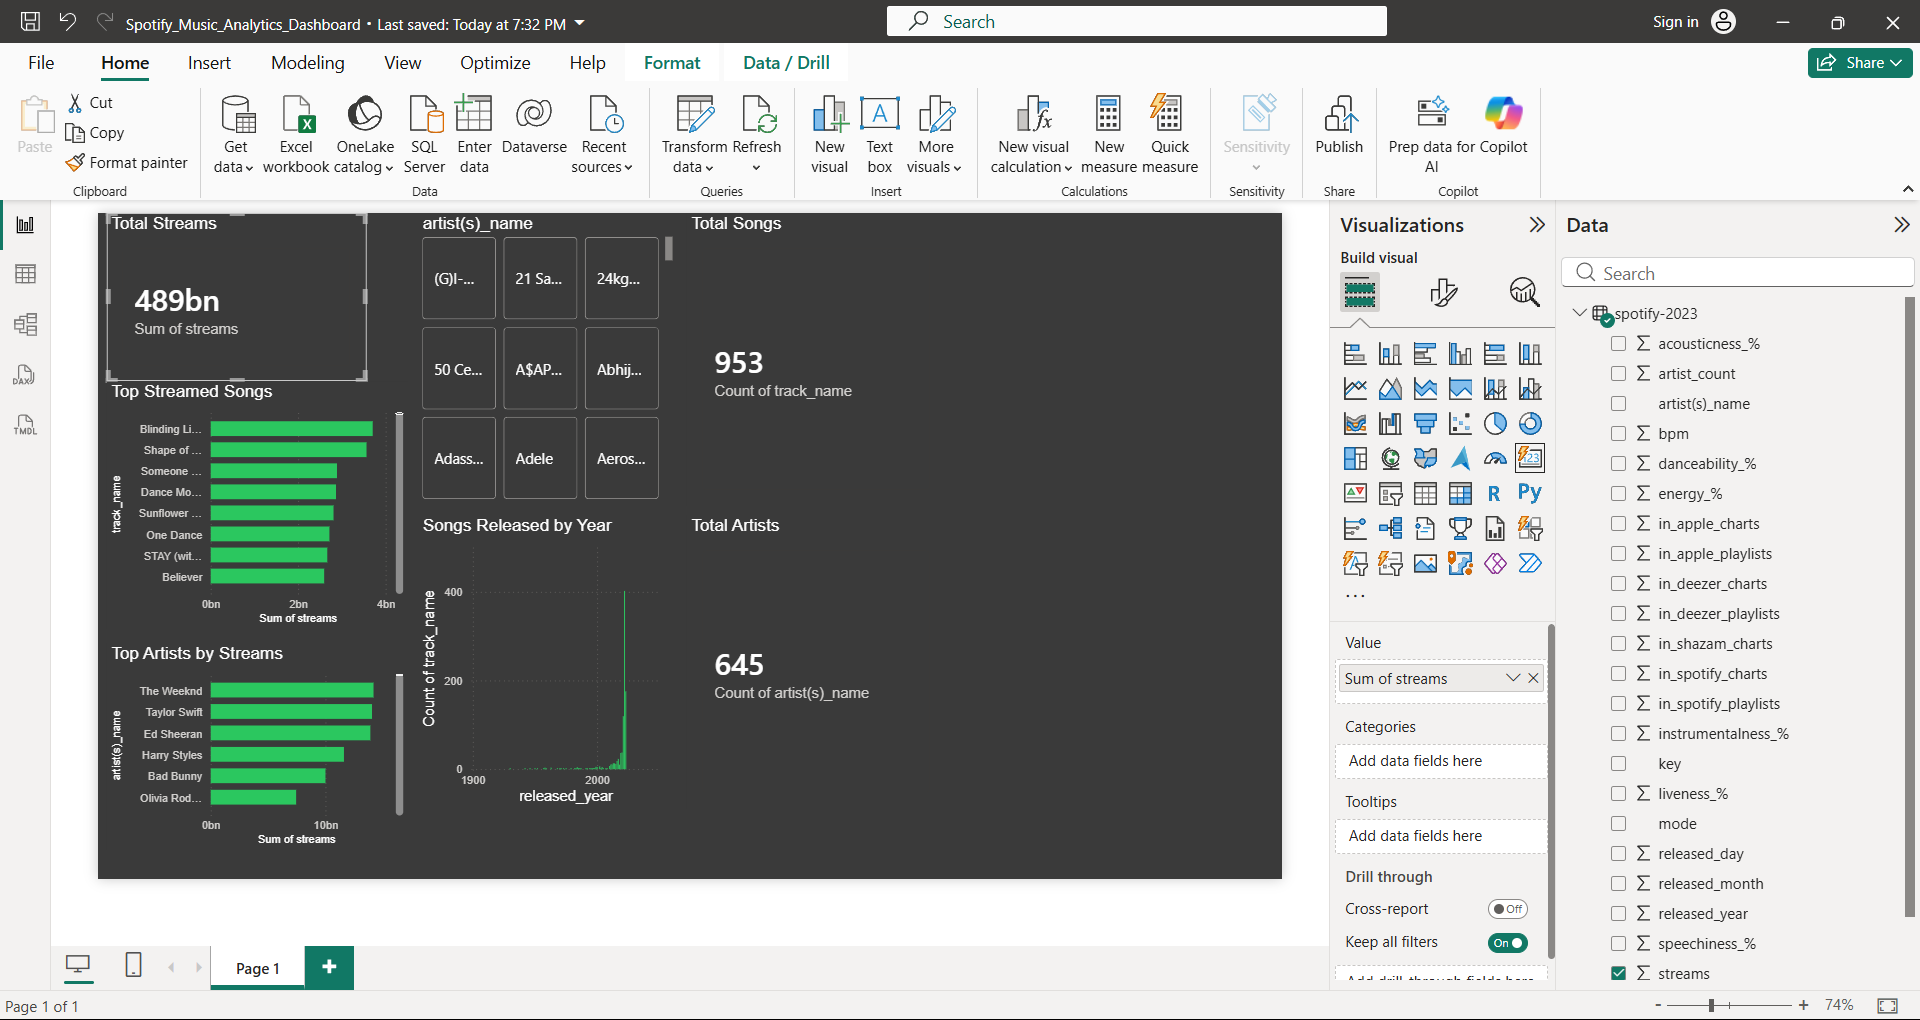

The page's visual inventory and layout, read from the dashboard file:
{"tool":"powerbi","page":{"name":"Page 1","canvas":[1280,720],"ordinal":0},"visuals":[{"type":"cardVisual","title":"Total Streams","fields":{"Data":["Sum(spotify-2023.streams)"]},"box":[10,0,280,182.9],"z":0},{"type":"clusteredBarChart","title":"Top Streamed Songs","fields":{"Category":["spotify-2023.track_name"],"Y":["Sum(spotify-2023.streams)"]},"box":[10,182.9,325.7,267.1],"z":1000},{"type":"clusteredBarChart","title":"Top Artists by Streams","fields":{"Category":["spotify-2023.artist(s)_name"],"Y":["Sum(spotify-2023.streams)"]},"box":[10,464.3,325.7,224.3],"z":2000},{"type":"clusteredColumnChart","title":"Songs Released by Year","fields":{"Category":["spotify-2023.released_year"],"Y":["CountNonNull(spotify-2023.track_name)"]},"box":[346,327,280,317],"z":3000},{"type":"cardVisual","title":"Total Songs","fields":{"Data":["CountNonNull(spotify-2023.track_name)"]},"box":[636,0,280,317],"z":4000},{"type":"cardVisual","title":"Total Artists","fields":{"Data":["Count(spotify-2023.artist(s)_name)"]},"box":[636,327,280,317],"z":5000},{"type":"advancedSlicerVisual","fields":{"Values":["spotify-2023.artist(s)_name"]},"box":[345.6,0,280,316.7],"z":6000}]}

Visuals, with their boxes on the page's 1280x720 design canvas (x1, y1, x2, y2). These are canvas units, not pixel positions in the 1920x1020 screenshot, which may show the page scaled, cropped or inside an application window:
"Total Streams" cardVisual: rect(10, 0, 290, 183)
"Top Streamed Songs" clusteredBarChart: rect(10, 183, 336, 450)
"Top Artists by Streams" clusteredBarChart: rect(10, 464, 336, 689)
"Songs Released by Year" clusteredColumnChart: rect(346, 327, 626, 644)
"Total Songs" cardVisual: rect(636, 0, 916, 317)
"Total Artists" cardVisual: rect(636, 327, 916, 644)
advancedSlicerVisual - spotify-2023.artist(s)_name: rect(346, 0, 626, 317)
